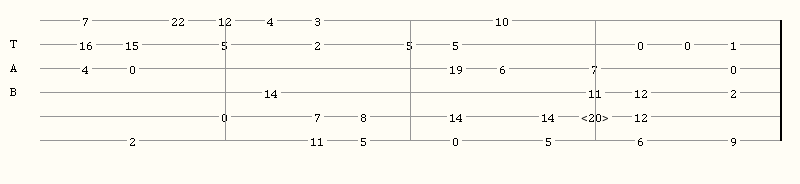0: (129, 62, 140, 74), (221, 110, 232, 122), (452, 134, 463, 146), (637, 38, 648, 50), (684, 38, 695, 50), (730, 62, 741, 74)
1: (730, 38, 741, 50)
10: (495, 14, 513, 26)
11: (310, 134, 328, 146), (588, 86, 606, 98)
12: (218, 14, 236, 26), (634, 86, 652, 98), (634, 110, 652, 122)
14: (264, 86, 282, 98), (449, 110, 467, 122), (541, 110, 559, 122)
15: (125, 38, 143, 50)
16: (79, 38, 97, 50)
19: (449, 62, 467, 74)
2: (129, 134, 140, 146), (314, 38, 325, 50), (730, 86, 741, 98)
22: (171, 14, 189, 26)
3: (314, 14, 325, 26)
4: (82, 62, 93, 74), (267, 14, 278, 26)
5: (221, 38, 232, 50), (360, 134, 371, 146), (406, 38, 417, 50), (452, 38, 463, 50), (545, 134, 556, 146)
6: (499, 62, 510, 74), (637, 134, 648, 146)
7: (82, 14, 93, 26), (314, 110, 325, 122), (591, 62, 602, 74)
8: (360, 110, 371, 122)
9: (730, 134, 741, 146)
harmonic: (581, 110, 613, 122)
